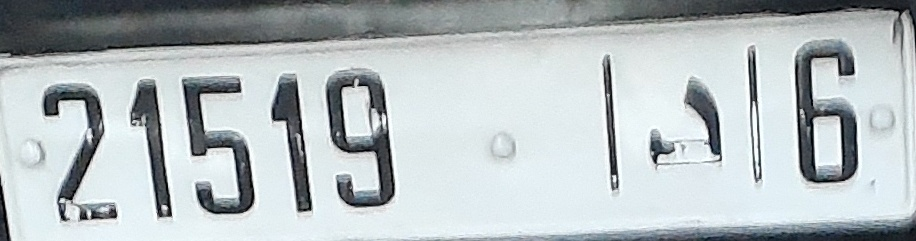1: (264, 65, 315, 216), (126, 71, 177, 217)
2: (39, 81, 118, 231)
5: (180, 71, 255, 218)
6: (787, 34, 865, 189)
9: (320, 64, 402, 211)
d: (644, 74, 735, 172)
